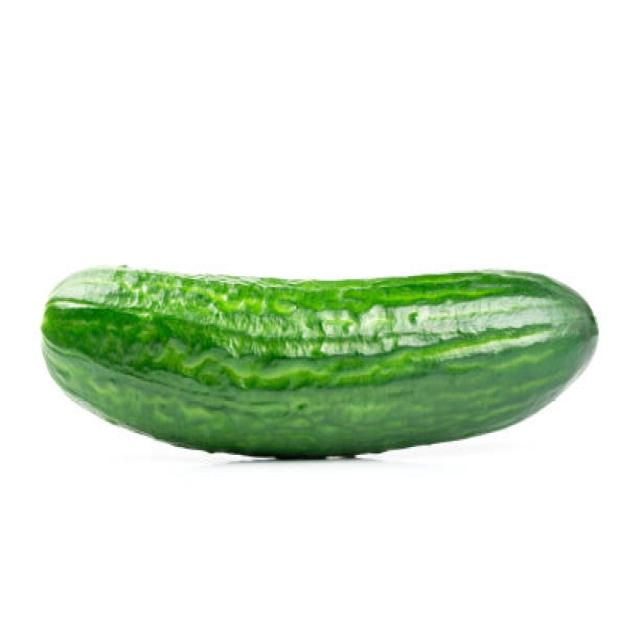cucumber: (38, 270, 600, 459)
